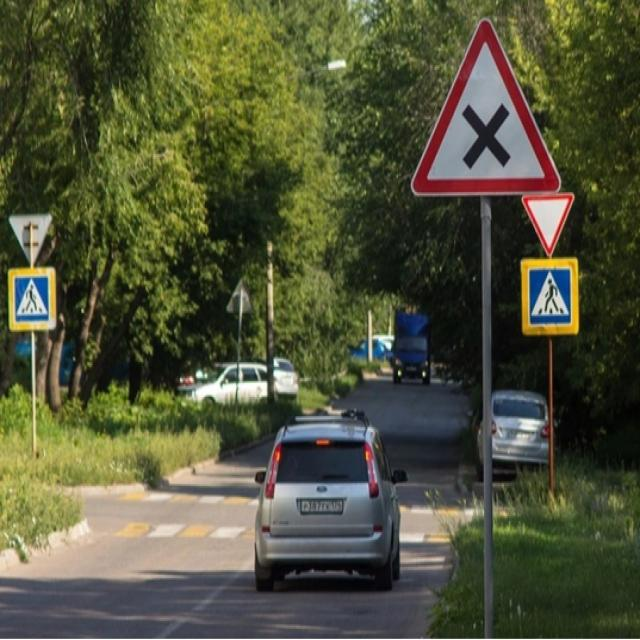Traffic sign: (412, 14, 561, 199), (516, 256, 583, 342), (520, 188, 578, 258), (7, 262, 60, 336), (6, 210, 57, 264), (225, 278, 257, 322)
